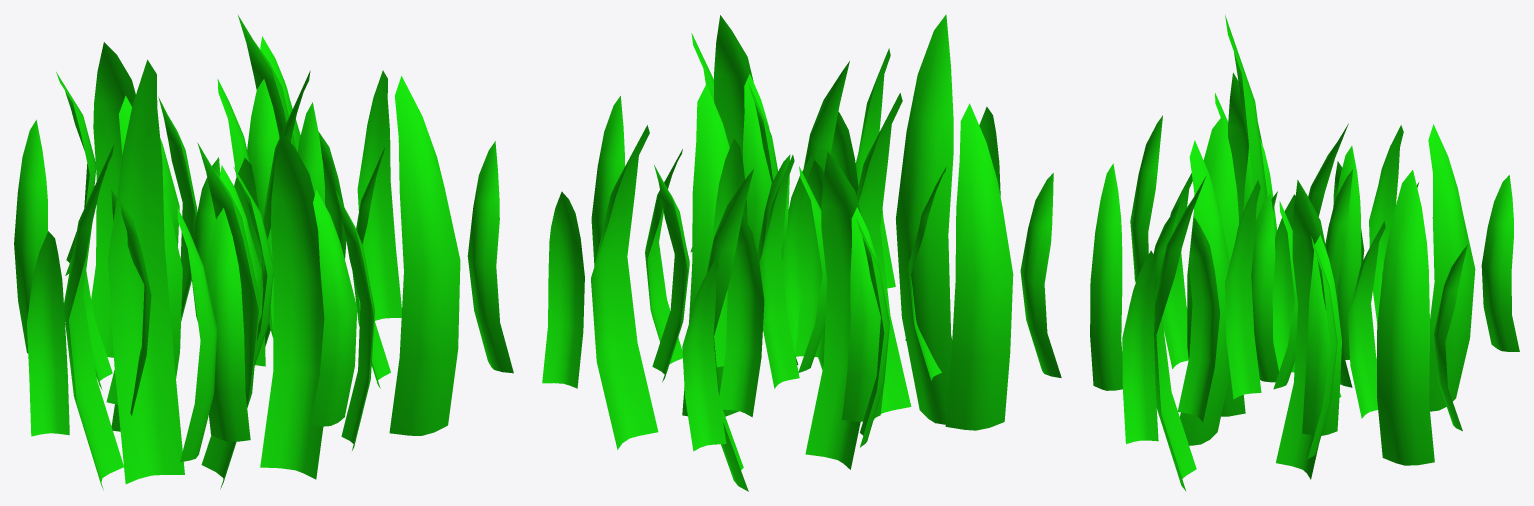
Rendered from bush 1.fbx.
The picture shows the model from 3 angles, left to right: view 1: azimuth 30°, elevation 25°; view 2: azimuth 150°, elevation 25°; view 3: azimuth 270°, elevation 25°; orthographic projection. The views are drawn at different scales.
Parts seen in each view (by area): view 1: Object052; view 2: Object052; view 3: Object052.
Part boxes in pixels (x1,y1,x2,y2): Object052: (14,14,513,490); Object052: (542,14,1061,491); Object052: (1090,15,1519,491).
Size of the model in its own units: 4.31 by 4.18 by 4.35.
